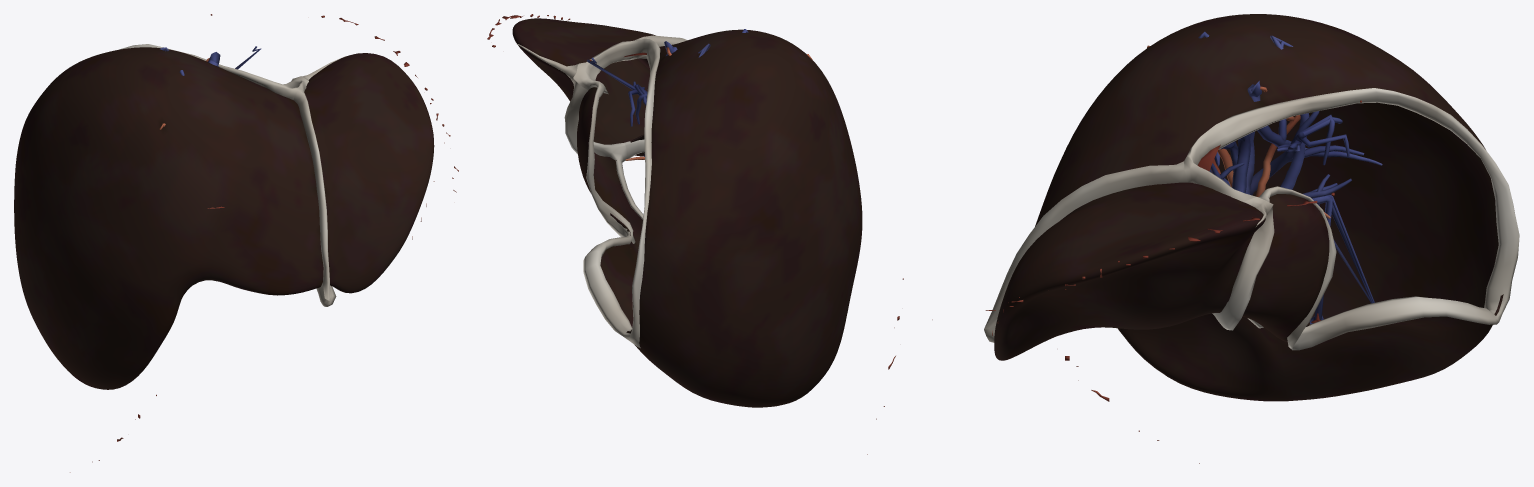
3 renders of one model, left to right at view 1: azimuth 30°, elevation 25°; view 2: azimuth 150°, elevation 25°; view 3: azimuth 270°, elevation 25°, orthographic. The views are drawn at different scales.
Visible parts, largest first — view 1: capsule, ligaments; view 2: capsule, ligaments, portal_vein; view 3: capsule, ligaments, portal_vein, hepatic_artery.
Boxes of the visible parts, box(x1,y1,x2,y2) form: capsule: box(14, 47, 434, 389); ligaments: box(119, 44, 346, 306); capsule: box(512, 18, 862, 407); ligaments: box(517, 35, 687, 348); portal_vein: box(587, 29, 748, 156); capsule: box(994, 14, 1503, 401); ligaments: box(984, 88, 1519, 350); portal_vein: box(1198, 31, 1382, 324); hepatic_artery: box(1147, 45, 1330, 218).
Size of the model in its own units: 1.97 by 2.14 by 2.19.
